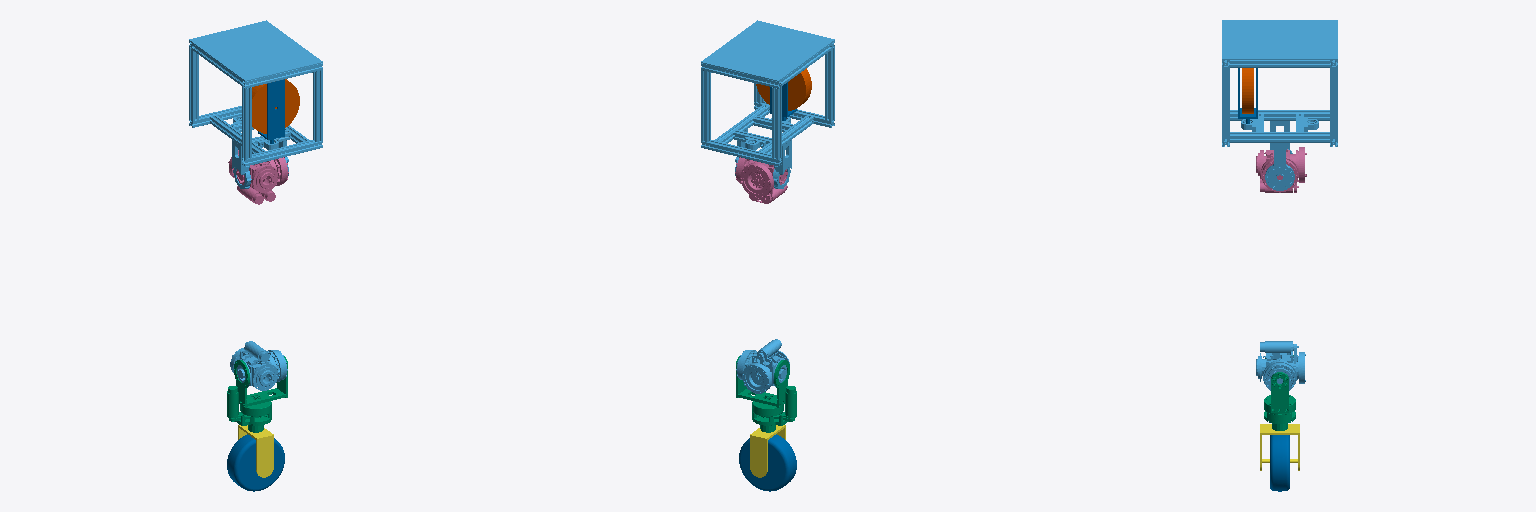
--- Render facts (derived) ---
3 views of the same robot in one strip: view 1: azimuth 30°, elevation 25°; view 2: azimuth 150°, elevation 25°; view 3: azimuth 270°, elevation 25° (orthographic).
Robot: wheeled_inverted_pendulum — 13 links, 12 joints (4 revolute, 3 continuous, 5 fixed); root link cmg; default pose: every joint at zero.
Links seen in each view (by area): view 1: frame, ankle_roll_yaw_link, wheel_link, ankle_pitch_roll_link, hip_link, Right_flywheel, Right_gimbal, ankle_to_wheel_link; view 2: frame, ankle_roll_yaw_link, wheel_link, ankle_pitch_roll_link, hip_link, ankle_to_wheel_link, Right_flywheel; view 3: frame, ankle_pitch_roll_link, ankle_roll_yaw_link, hip_link, wheel_link, Right_flywheel, ankle_to_wheel_link.
Boxes of the visible links, x1=… form: frame: x1=189, y1=20, x2=322, y2=188; ankle_roll_yaw_link: x1=227, y1=356, x2=287, y2=432; wheel_link: x1=227, y1=434, x2=284, y2=491; ankle_pitch_roll_link: x1=230, y1=341, x2=287, y2=390; hip_link: x1=228, y1=150, x2=288, y2=204; Right_flywheel: x1=252, y1=79, x2=299, y2=133; Right_gimbal: x1=258, y1=79, x2=284, y2=143; ankle_to_wheel_link: x1=238, y1=425, x2=273, y2=477; frame: x1=701, y1=20, x2=834, y2=188; ankle_roll_yaw_link: x1=736, y1=356, x2=796, y2=432; wheel_link: x1=739, y1=434, x2=796, y2=491; ankle_pitch_roll_link: x1=736, y1=339, x2=789, y2=393; hip_link: x1=735, y1=157, x2=787, y2=203; ankle_to_wheel_link: x1=750, y1=425, x2=785, y2=477; Right_flywheel: x1=756, y1=68, x2=811, y2=110; frame: x1=1222, y1=20, x2=1337, y2=190; ankle_pitch_roll_link: x1=1256, y1=341, x2=1305, y2=390; ankle_roll_yaw_link: x1=1264, y1=355, x2=1295, y2=430; hip_link: x1=1256, y1=147, x2=1306, y2=192; wheel_link: x1=1270, y1=435, x2=1289, y2=491; Right_flywheel: x1=1242, y1=68, x2=1253, y2=113; ankle_to_wheel_link: x1=1260, y1=424, x2=1299, y2=470.
Size in the robot's own frame: 0.23 by 0.29 by 1.24 metres.
8 mesh visuals loaded from 12 distinct referenced files (8 binary STL); not drawn: 4 (reference not matched to a file when rendering).

The robot description file, URDF, robot "wheeled_inverted_pendulum":
<?xml version="1.0"?>

<robot name="wheeled_inverted_pendulum">

        <link name="cmg">		    
		</link>

        <joint name="cmg_joint" type="fixed">
		    <origin xyz="0 0 1.114642" rpy="0.0 0.0 0.0" /> 
		    <parent link="cmg"/>
		    <child link="frame"/>
		</joint> 

        <link name="frame">
            <visual>
                <origin xyz="0 0 0" rpy="1.5708 0.0 0"/> <!--xyz="0.0 0.0 0.0" rpy="0 0.0 0" -->
                <geometry>
                    <mesh filename="package://cmg_robot_description/meshes/cmg_link.STL" scale="0.001 0.001 0.001"/>         
                </geometry>
                <material name=""/>
            </visual>

            <collision>
                <origin xyz="0 0 0" rpy="1.5708 0.0 0.0"/>
                <geometry>
                    <mesh filename="package://cmg_robot_description/meshes/cmg_link.STL" scale="0.001 0.001 0.001"/>
                </geometry>
            </collision>

            <inertial>
                <mass value="2.84" /> <!--20.781-->
                <origin xyz="0 0 -0.004142" rpy="1.5708 0.0 0"/>
                <inertia ixx="0.069831822" ixy="0.000002709"  ixz="0.001167158"  iyy="0.062838135"  iyz="0.000012214"  izz="0.037865996" />
            </inertial>
        </link>

<!-- ######################################################################################### -->

        <joint name="Left_gimbal_joint" type="revolute">
            <!-- <origin xyz="-0.000001 0.08 -0.0015" rpy="0 0 1.57"/> -->
            <origin xyz="0 0.08 0.00225" rpy="0 0 0"/>
            <axis xyz="0 0 1" />
            <parent link="frame"/>
            <child link="Left_gimbal"/>            
            <limit effort="100" velocity="100" upper="0.6978" lower="-0.6978"/>
            <!-- <calibration falling="1.0"/> -->
            <joint_properties damping="0.0" friction="0.0"/>
            <mimic joint="Right_gimbal_joint" multiplier="-1.0"/>

        </joint>

<!-- ######################################################################################### -->

        <link name="Left_gimbal">
            <visual>
                <origin xyz="0.0 0.0 0.0" rpy="1.57 0.0 0"/> 
                <geometry>
                    <mesh filename="package://cmg_robot_description/meshes/left_gimbal_link.STL" scale="0.001 0.001 0.001"/>         
                </geometry>
                <material name=""/>
            </visual>
            <collision>
                <origin xyz="0 0 0" rpy="1.57 0.0 0.0"/>
                <geometry>
                    <mesh filename="package://cmg_robot_description/meshes/left_gimbal_link.STL" scale="0.001 0.001 0.001"/>        
                </geometry>
            </collision>
            <inertial>
                <mass value="1" />
                <origin xyz="0 0 0" />
                <inertia ixx="0.003773117" ixy="0" ixz="0" iyy="0.003989672" iyz="0" izz="0.00061837"/>
            </inertial>
        </link>

<!-- ######################################################################################### -->

         <joint name="Left_flywheel_joint" type="continuous">
            <origin xyz="0 0 0" rpy="0 0 0"/>
            <axis xyz="0 1 0" />
            <parent link="Left_gimbal"/>
            <child link="Left_flywheel"/>
            <limit effort="100" velocity="1000"/>
            <joint_properties damping="0.0" friction="0.0"/>
            <mimic joint="Right_gimbal_joint" multiplier="-1.0"/>
        </joint>

<!-- ######################################################################################### -->

        <link name="Left_flywheel">
            <visual>
                <origin xyz="0 0 0" rpy="0 0 0" />
                <geometry>
                    <mesh filename="package://cmg_robot_description/meshes/left_flywheel_link.STL" scale="0.001 0.001 0.001" />
                </geometry>
                <material name=""/>
            </visual>

            <collision>
                <geometry>
                    <mesh filename="package://cmg_robot_description/meshes/left_flywheel_link.STL" scale="0.001 0.001 0.001" />
                </geometry>
            </collision>

            <inertial>
                <mass value="4" />
                <origin xyz="0 0 0" />
                <inertia ixx="0.005950" ixy="0" ixz="0" iyy="0.011299999" iyz="0" izz="0.005950"/>
            </inertial>
        </link>

<!-- ######################################################################################### -->

        <joint name="Right_gimbal_joint" type="revolute">            
            <origin xyz="0 -0.08 0.00225" rpy="0 0 0"/>
            <axis xyz="0 0 1" />
            <parent link="frame"/>
            <child link="Right_gimbal"/>            
            <limit effort="100" velocity="100" upper="0.6978" lower="-0.6978"/>
            <joint_properties damping="0.0" friction="0"/>
        </joint>

<!-- ######################################################################################### -->

        <link name="Right_gimbal">
            <visual>
                <origin xyz="0.0 0.0 0.0" rpy="1.57 0.0 0"/> 
                <geometry>
                    <mesh filename="package://cmg_robot_description/meshes/right_gimbal_link.STL" scale="0.001 0.001 0.001"/>         
                </geometry>
                <material name=""/>
            </visual>
            <collision>
                <origin xyz="0 0 0" rpy="1.57 0.0 0.0"/>
                <geometry>
                    <mesh filename="package://cmg_robot_description/meshes/right_gimbal_link.STL" scale="0.001 0.001 0.001"/>        
                </geometry>
            </collision>
            <inertial>
                <mass value="1" />
                <origin xyz="0 0 0" />
                <inertia ixx="0.003773117" ixy="0" ixz="0" iyy="0.003989672" iyz="0" izz="0.00061837"/>
            </inertial>
        </link>

<!-- ######################################################################################### -->

        <joint name="Right_flywheel_joint" type="continuous">
            <origin xyz="0 0 0" rpy="0 0 0"/>
            <axis xyz="0 1 0" />
            <parent link="Right_gimbal"/>
            <child link="Right_flywheel"/>
            <limit effort="100" velocity="1000"/>
            <joint_properties damping="0.0" friction="0.0"/>
        </joint>

<!-- ######################################################################################### -->

        <link name="Right_flywheel">
            <visual>
                <origin xyz="0 0 0" rpy="0 0 0" />
                <geometry>
                    <mesh filename="package://cmg_robot_description/meshes/right_flywheel_link.STL" scale="0.001 0.001 0.001" />
                </geometry>
                <material name=""/>
            </visual>

            <collision>
                <geometry>
                    <mesh filename="package://cmg_robot_description/meshes/right_flywheel_link.STL" scale="0.001 0.001 0.001" />
                </geometry>
            </collision>

            <inertial>
                <mass value="4" />
                <origin xyz="0 0 0" />
                <inertia ixx="0.005950" ixy="0" ixz="0" iyy="0.011299999" iyz="0" izz="0.005950"/>
            </inertial>
        </link>
        
<!-- ######################################################################################### -->
<!-- -0.220996 -->
        <joint name="hip_roll_joint" type="revolute">
            <origin xyz="0 0 -0.220996" rpy="0 0 0"/>
            <parent link="frame"/>
            <child link="hip_link"/>
            <axis xyz="1 0 0"/>
            <limit effort="100" velocity="1000" upper="0.785" lower="-0.785"/>
            <joint_properties damping="1.0" friction="1.0"/>
        </joint>

        <link name="hip_link">
            <visual>
                <origin xyz="-0.042455 0 0" rpy="3.14 0 0"/> 
                <geometry>
                    <mesh filename="package://cmg_robot_description/meshes/hip_link.STL" scale="0.001 0.001 0.001"/>         
                </geometry>
                <material name=""/>
            </visual>

            <collision>
                <origin xyz="-0.042455 0 0" rpy="3.14 0 0"/>
                <geometry>
                    <!-- <box size = "  0.127 0.168778 0.958442 "/>                     -->
                    <mesh filename="package://cmg_robot_description/meshes/hip_link.STL" scale="0.001 0.001 0.001"/>
                </geometry>
            </collision>

            <inertial>
                <mass value="3.325" /> 
                <origin xyz="0.0 0.0 0.011176" rpy="3.14 0.0 0"/>
                <inertia ixx="0.006208194" ixy="0.000396490"  ixz="-0.000685512"  iyy="0.006554912"  iyz="-0.000658520" izz="0.006773627" />
            </inertial>
        </link>

<!-- ######################################################################################### -->

        <joint name="hip_pitch_joint" type="fixed">
		    <!-- <origin xyz="0 -0.0045 -0.451221" rpy="0.0 0.0 0.0" />  -->
		    <origin xyz="0 0 0" rpy="0.0 0.0 0.0" /> 
            <!-- <axis xyz="0 1 0"/> -->
		    <parent link="hip_link"/>
		    <child link="hip_to_knee_link" />
            <!-- <limit effort="100" velocity="1000" upper="0.785" lower="-0.785"/>
            <joint_properties damping="1.0" friction="1.0"/> -->
		</joint> 

        <link name="hip_to_knee_link">
            <visual>
                <origin xyz="0.0 0.0665 0" rpy="3.14 0 0"/> 
                <geometry>
                    <mesh filename="package://cmg_robot_description/meshes/hip_to_knee_link.STL" scale="0.001 0.001 0.001"/>         
                </geometry>
                <material name=""/>
                    
            </visual>

            <collision>
                <origin xyz="0 0.0665 0.0" rpy="3.14 0 0"/>
                <geometry>
                    <!-- <box size = "  0.127 0.168778 0.958442 "/>                     -->
                    <mesh filename="package://cmg_robot_description/meshes/hip_to_knee_link.STL" scale="0.001 0.001 0.001"/>
                </geometry>
            </collision>

            <inertial>
                <mass value="2.175" /> 
                <origin xyz="0.0 0 -0.14958" rpy="3.14 0.0 0"/>
                <inertia ixx="0.007175717" ixy="0.000086944"  ixz="0.000249192"  iyy="0.006609551"  iyz="-0.000206119" izz="0.002458394" />
            </inertial>
        </link> 
<!-- ######################################################################################### -->

        <joint name="knee_joint" type="fixed">
		    <origin xyz="0 0 -0.28" rpy="0.0 0.0 0.0" /> 
            <!-- <axis xyz="0 1 0"/> -->
		    <parent link="hip_to_knee_link"/>
		    <child link="knee_ankle_link" />
            <!-- <limit effort="100" velocity="1000" upper="0.785" lower="-0.785"/>
            <joint_properties damping="1.0" friction="1.0"/> -->
		</joint> 

        <link name="knee_ankle_link">
            <visual>
                <origin xyz="0.000045 -0.059 0" rpy="3.14 0 0"/> 
                <geometry>
                    <mesh filename="package://cmg_robot_description/meshes/knee_to_ankle_pitch_link.STL" scale="0.001 0.001 0.001"/>         
                </geometry>
                <material name=""/>
                    
            </visual>

            <collision>
                <origin xyz="0.000045 -0.059 0" rpy="3.14 0 0"/>
                <geometry>
                    <!-- <box size = "  0.127 0.168778 0.958442 "/>                     -->
                    <mesh filename="package://cmg_robot_description/meshes/knee_to_ankle_pitch_link.STL" scale="0.001 0.001 0.001"/>
                </geometry>
            </collision>

            <inertial>
                <mass value="1.231" /> 
                <origin xyz="0.0 0 -0.12016" rpy="3.14 0.0 0"/>
                <inertia ixx="0.008859306" ixy="0.000111937"  ixz="0.000678647"  iyy="0.008343955"  iyz="-0.000413906" izz="0.002077894" />
            </inertial>
        </link> 
<!-- ######################################################################################### -->

        <joint name="ankle_pitch_joint" type="fixed">
		    <origin xyz="0 0 -0.279942" rpy="0.0 0.0 0.0" /> 
            <!-- <axis xyz="0 1 0"/> -->
		    <parent link="knee_ankle_link"/>
		    <child link="ankle_pitch_roll_link" />
            <!-- <limit effort="100" velocity="1000" upper="0.785" lower="-0.785"/>
            <joint_properties damping="1.0" friction="1.0"/> -->
		</joint> 

        <link name="ankle_pitch_roll_link">
            <visual>
                <origin xyz="0.0 0.0 0.0" rpy="3.14 0 0"/> 
                <geometry>
                    <mesh filename="package://cmg_robot_description/meshes/ankle_roll_link.STL" scale="0.001 0.001 0.001"/>         
                </geometry>
                <material name=""/>
                    
            </visual>

            <collision>
                <origin xyz="0 0 0" rpy="3.14 0 0"/>
                <geometry>
                    <!-- <box size = "  0.127 0.168778 0.958442 "/>                     -->
                    <mesh filename="package://cmg_robot_description/meshes/ankle_roll_link.STL" scale="0.001 0.001 0.001"/>
                </geometry>
            </collision>

            <inertial>
                <mass value="2.386" /> 
                <origin xyz="0.0 0.0 -0.0068274" rpy="3.14 0.0 0"/>
                <inertia ixx="0.003950987" ixy="0.000238179"  ixz="0.000315902"  iyy="0.004226334"  iyz="0.000351372" izz="0.004633548" />
            </inertial>
        </link> 

        
<!-- ######################################################################################### -->

        <joint name="ankle_roll_joint" type="revolute">
		    <!-- <origin xyz="0 -0.0045 -0.451221" rpy="0.0 0.0 0.0" />  -->
		    <origin xyz="0 0 0" rpy="0.0 0.0 0.0" /> 
            <axis xyz="1 0 0"/>
		    <parent link="ankle_pitch_roll_link"/>
		    <child link="ankle_roll_yaw_link" />
            <limit effort="100" velocity="1000" upper="0.785" lower="-0.785"/>
            <joint_properties damping="1.0" friction="1.0"/>
		</joint> 

        <link name="ankle_roll_yaw_link">
            <visual>
                <origin xyz="0.0825 0.0 0.0" rpy="3.14 0 0"/> 
                <geometry>
                    <mesh filename="package://cmg_robot_description/meshes/ankle_yaw_link.STL" scale="0.001 0.001 0.001"/>         
                </geometry>
                <material name=""/>
            </visual>

            <collision>
                <origin xyz="0.0825 0 0" rpy="3.14 0 0"/>
                <geometry>
                    <!-- <box size = "  0.127 0.168778 0.958442 "/>                     -->
                    <mesh filename="package://cmg_robot_description/meshes/ankle_yaw_link.STL" scale="0.001 0.001 0.001"/>
                </geometry>
            </collision>

            <inertial>
                <mass value="1.325" /> 
                <origin xyz="0.0 0.0 -0.093558" rpy="1.57 0 1.57"/>
                <inertia ixx="0.004491154" ixy="0.000005564"  ixz="0.000003285"  iyy="0.002633972"  iyz="0.000397982" izz="0.002356447" />
            </inertial>
        </link> 

<!-- ######################################################################################### -->

        <joint name="ankle_yaw_joint" type="fixed">
		    <!-- <origin xyz="0 -0.0045 -0.451221" rpy="0.0 0.0 0.0" />  -->
		    <origin xyz="0 0 -0.1675" rpy="0.0 0.0 0.0" /> 
            <!-- <axis xyz="0 0 1"/> -->
		    <parent link="ankle_roll_yaw_link"/>
		    <child link="ankle_to_wheel_link" />
            <!-- <limit effort="100" velocity="1000" upper="0.785" lower="-0.785"/> -->
            <!-- <joint_properties damping="1.0" friction="1.0"/> -->
		</joint> 

        <link name="ankle_to_wheel_link">
            <visual>
                <origin xyz="0.0 0.0 -0.09" rpy="0 0 0"/> 
                <geometry>
                    <mesh filename="package://cmg_robot_description/meshes/ankle_to_wheel_link.STL" scale="0.001 0.001 0.001"/>         
                </geometry>
                <material name=""/>
            </visual>

            <collision>
                <origin xyz="0 0 -0.09" rpy="0 0 0"/>
                <geometry>
                    <!-- <box size = "  0.127 0.168778 0.958442 "/>                     -->
                    <mesh filename="package://cmg_robot_description/meshes/ankle_to_wheel_link.STL" scale="0.001 0.001 0.001"/>
                </geometry>
            </collision>

            <inertial>
                <mass value="0.758" /> 
                <origin xyz="0 0 0" rpy="0.0 0.0 0"/>
                <inertia ixx="0.002298182" ixy="0.0"  ixz="0.0"  iyy="0.001121639"  iyz="-0.0" izz="0.001482959" />
            </inertial>
        </link>

<!-- ######################################################################################### -->

        <joint name="wheel_joint" type="continuous">
		    <!-- <origin xyz="0 -0.0045 -0.451221" rpy="0.0 0.0 0.0" />  -->
		    <origin xyz="0 0 -0.09" rpy="0.0 0.0 0.0" /> 
            <axis xyz="0 1 0"/>
		    <parent link="ankle_to_wheel_link"/>
		    <child link="wheel_link" />
            <limit effort="100" velocity="1000"/>
            <joint_properties damping="1.0" friction="1.0"/>
		</joint>

         <link name="wheel_link">
            <visual>
                <origin xyz="0.0 0.0 0.0" rpy="0 0.0 1.57"/> 
                <geometry>
                    <mesh filename="package://cmg_robot_description/meshes/wheel_link.STL" scale="0.001 0.001 0.001"/>         
                </geometry>
                <material name=""/>
            </visual>

            <collision>                
                <origin xyz="0 0 0" rpy="0 0.0 1.57"/>
                <geometry>
                    <mesh filename="package://cmg_robot_description/meshes/wheel_link.STL" scale="0.001 0.001 0.001"/>                 
                </geometry>
            </collision>

            <inertial>
                <mass value="2.0" />
                <origin xyz="0 0 0" />
                <inertia ixx="0.003623375" ixy="0.0" ixz="0.0" iyy="0.006512625" iyz="0.0" izz="0.003623375"/>
            </inertial>
        </link> 

<!-- ######################################################################################### -->

        <gazebo reference="frame">
            <mu1>1.0</mu1>
            <mu2>1.0</mu2> 
            <kp>1e+13</kp>
            <kd>1.0</kd>
            <maxVel>0.001</maxVel>
            <minDepth>0.00000000001</minDepth>
            <gravity>1</gravity>
            <material>Gazebo/Grey</material>
            <!-- <selfCollide>true</selfCollide> -->
        </gazebo>

        <gazebo reference="Left_gimbal">
            <mu1>1.0</mu1>
            <mu2>1.0</mu2> 
            <kp>1e+13</kp>
            <kd>1.0</kd>
            <maxVel>0.001</maxVel>
            <minDepth>0.00000000001</minDepth>
            <gravity>1</gravity>
            <material>Gazebo/Grey</material>
            <selfCollide>true</selfCollide>
        </gazebo>

        <gazebo reference="Left_flywheel">
            <mu1>1.0</mu1>
            <mu2>1.0</mu2> 
            <kp>1e+13</kp>
            <kd>1.0</kd>
            <maxVel>0.001</maxVel>
            <minDepth>0.00000000001</minDepth>
            <gravity>1</gravity>
            <material>Gazebo/White</material>
        </gazebo>


        <gazebo reference="Right_gimbal">
            <mu1>1.0</mu1>
            <mu2>1.0</mu2> 
            <kp>1e+13</kp>
            <kd>1.0</kd>
            <maxVel>0.001</maxVel>
            <minDepth>0.00000000001</minDepth>
            <gravity>1</gravity>
            <material>Gazebo/Grey</material>
            <selfCollide>true</selfCollide>
        </gazebo>

        <gazebo reference="Right_flywheel">
            <mu1>1.0</mu1>
            <mu2>1.0</mu2> 
            <kp>1e+13</kp>
            <kd>1.0</kd>
            <maxVel>0.001</maxVel>
            <minDepth>0.00000000001</minDepth>
            <gravity>1</gravity>
            <material>Gazebo/White</material>
        </gazebo>


<!-- ######################################################################################### -->

        <gazebo reference="hip_link">
            <mu1>1.0</mu1>
            <mu2>1.0</mu2> 
            <kp>1e+13</kp>
            <kd>1.0</kd>
            <maxVel>0.001</maxVel>
            <minDepth>0.00000000001</minDepth>
            <gravity>1</gravity>
            <material>Gazebo/Grey</material>
        </gazebo>

        <gazebo reference="hip_to_knee_link">
            <mu1>1.0</mu1>
            <mu2>1.0</mu2> 
            <kp>1e+13</kp>
            <kd>1.0</kd>
            <maxVel>0.001</maxVel>
            <minDepth>0.00000000001</minDepth>
            <gravity>1</gravity>
            <material>Gazebo/Grey</material>
        </gazebo>

        <gazebo reference="knee_ankle_link">
            <mu1>1.0</mu1>
            <mu2>1.0</mu2> 
            <kp>1e+13</kp>
            <kd>1.0</kd>
            <maxVel>0.001</maxVel>
            <minDepth>0.00000000001</minDepth>
            <gravity>1</gravity>
            <material>Gazebo/Grey</material>
        </gazebo>

        <gazebo reference="ankle_pitch_roll_link">
            <mu1>1.0</mu1>
            <mu2>1.0</mu2> 
            <kp>1e+13</kp>
            <kd>1.0</kd>
            <maxVel>0.001</maxVel>
            <minDepth>0.00000000001</minDepth>
            <gravity>1</gravity>
            <material>Gazebo/Grey</material>
        </gazebo>

        <gazebo reference="ankle_roll_yaw_link">
            <mu1>1.0</mu1>
            <mu2>1.0</mu2> 
            <kp>1e+13</kp>
            <kd>1.0</kd>
            <maxVel>0.001</maxVel>
            <minDepth>0.00000000001</minDepth>
            <gravity>1</gravity>
            <material>Gazebo/Grey</material>
        </gazebo>

        <gazebo reference="ankle_to_wheel_link">
            <mu1>1.0</mu1>
            <mu2>1.0</mu2> 
            <kp>1e+13</kp>
            <kd>1.0</kd>
            <maxVel>0.001</maxVel>
            <minDepth>0.00000000001</minDepth>
            <gravity>1</gravity>
            <material>Gazebo/Grey</material>
        </gazebo>

        <gazebo reference="wheel_link">
            <collision name="wheel_collision">
                <surface>
                    <friction>
                        <torsional>
                            <coefficient>1</coefficient>
                            <use_patch_radius>true</use_patch_radius>
                            <patch_radius>0.02</patch_radius>
                        </torsional>
                    </friction>
                </surface>
            </collision>
            <mu1>1.0</mu1>
            <mu2>1.0</mu2> 
            <kp>1e+13</kp>
            <kd>1.0</kd>
            <maxVel>0.001</maxVel>
            <minDepth>0.00000000001</minDepth>
            <gravity>1</gravity>
            <material>Gazebo/White</material>
        </gazebo>


<!-- ######################################################################################### -->

        <gazebo>
            <plugin name="gazebo_ros_control" filename="libgazebo_ros_control.so">
                <controlPeriod>0.001</controlPeriod>
                <robotNamespace>/wheeled_inverted_pendulum</robotNamespace>
                <!-- <jointName> Right_gimbal_joint, Left_gimbal_joint, Left_flywheel_joint, Right_flywheel_joint, hip_roll_joint, hip_pitch_joint, knee_joint, ankle_pitch_joint, ankle_roll_joint, wheel_joint </jointName> -->
                <robotSimType>gazebo_ros_control/DefaultRobotHWSim</robotSimType>
                <legacyModeNS>true</legacyModeNS>
            </plugin>
        </gazebo>

        <gazebo>
            <plugin name="mimic_control" filename="libroboticsgroup_upatras_gazebo_mimic_joint_plugin.so">
                <joint>Right_gimbal_joint</joint>
                <mimicJoint>Left_gimbal_joint</mimicJoint>
                <multiplier>-1.0</multiplier>
                <!-- <hasPID>/gazebo_ros_control/pid_gains/Left_gimbal_joint</hasPID> -->
                <!-- /gazebo_ros_control/pid_gains/Left_gimbal_joint -->
            </plugin>
        </gazebo>

        <transmission name="Left_flywheel_trans">
            <type>transmission_interface/SimpleTransmission</type>
            <joint name="Left_flywheel_joint" >
                <hardwareInterface>hardware_interface/VelocityJointInterface</hardwareInterface>
            </joint>
            <actuator name="Left_flywheel_motor">
                <hardwareInterface>hardware_interface/VelocityJointInterface</hardwareInterface>
                <mechanicalReduction>1</mechanicalReduction>
            </actuator>
        </transmission>

        <!-- <transmission name="Left_gimbal_trans">
            <type>transmission_interface/SimpleTransmission</type>
            <joint name="Left_gimbal_joint" >
                <hardwareInterface>hardware_interface/EffortJointInterface</hardwareInterface>
            </joint>
            <actuator name="Left_gimbal_motor">
                <hardwareInterface>hardware_interface/EffortJointInterface</hardwareInterface>
                <mechanicalReduction>1</mechanicalReduction>
            </actuator>
        </transmission> -->


        <transmission name="Right_flywheel_trans">
            <type>transmission_interface/SimpleTransmission</type>
            <joint name="Right_flywheel_joint" >
                <hardwareInterface>hardware_interface/VelocityJointInterface</hardwareInterface>
            </joint>
            <actuator name="Right_flywheel_motor">
                <hardwareInterface>hardware_interface/VelocityJointInterface</hardwareInterface>
                <mechanicalReduction>1</mechanicalReduction>
            </actuator>
        </transmission>

        <transmission name="Right_gimbal_trans">
            <type>transmission_interface/SimpleTransmission</type>
            <joint name="Right_gimbal_joint" >
                <hardwareInterface>hardware_interface/EffortJointInterface</hardwareInterface>
            </joint>
            <actuator name="Right_gimbal_motor">
                <hardwareInterface>hardware_interface/EffortJointInterface</hardwareInterface>
                <mechanicalReduction>1</mechanicalReduction>
            </actuator>
        </transmission>

<!-- ######################################################################################### -->

        <transmission name="hip_roll_trans">
            <type>transmission_interface/SimpleTransmission</type>
            <joint name="hip_roll_joint" >
                <hardwareInterface>hardware_interface/PositionJointInterface</hardwareInterface>
            </joint>
            <actuator name="hip_roll_motor">
                <hardwareInterface>hardware_interface/PositionJointInterface</hardwareInterface>
                <mechanicalReduction>1</mechanicalReduction>
            </actuator>
        </transmission>

        <!-- <transmission name="hip_pitch_trans">
            <type>transmission_interface/SimpleTransmission</type>
            <joint name="hip_pitch_joint" >
                <hardwareInterface>hardware_interface/PositionJointInterface</hardwareInterface>
            </joint>
            <actuator name="hip_pitch_motor">
                <hardwareInterface>hardware_interface/PositionJointInterface</hardwareInterface>
                <mechanicalReduction>1</mechanicalReduction>
            </actuator>
        </transmission>


        <transmission name="knee_trans">
            <type>transmission_interface/SimpleTransmission</type>
            <joint name="knee_joint" >
                <hardwareInterface>hardware_interface/PositionJointInterface</hardwareInterface>
            </joint>
            <actuator name="knee_motor">
                <hardwareInterface>hardware_interface/PositionJointInterface</hardwareInterface>
                <mechanicalReduction>1</mechanicalReduction>
            </actuator>
        </transmission>

        <transmission name="ankle_pitch_trans">
            <type>transmission_interface/SimpleTransmission</type>
            <joint name="ankle_pitch_joint" >
                <hardwareInterface>hardware_interface/PositionJointInterface</hardwareInterface>
            </joint>
            <actuator name="ankle_pitch_motor">
                <hardwareInterface>hardware_interface/PositionJointInterface</hardwareInterface>
                <mechanicalReduction>1</mechanicalReduction>
            </actuator>
        </transmission> -->

        <transmission name="ankle_roll_trans">
            <type>transmission_interface/SimpleTransmission</type>
            <joint name="ankle_roll_joint" >
                <hardwareInterface>hardware_interface/PositionJointInterface</hardwareInterface>
            </joint>
            <actuator name="ankle_roll_motor">
                <hardwareInterface>hardware_interface/PositionJointInterface</hardwareInterface>
                <mechanicalReduction>1</mechanicalReduction>
            </actuator>
        </transmission>

        <!-- <transmission name="ankle_yaw_trans">
            <type>transmission_interface/SimpleTransmission</type>
            <joint name="ankle_yaw_joint" >
                <hardwareInterface>hardware_interface/PositionJointInterface</hardwareInterface>
            </joint>
            <actuator name="ankle_yaw_motor">
                <hardwareInterface>hardware_interface/PositionJointInterface</hardwareInterface>
                <mechanicalReduction>1</mechanicalReduction>
            </actuator>
        </transmission> -->

        <transmission name="wheel_trans">
            <type>transmission_interface/SimpleTransmission</type>
            <joint name="wheel_joint" >
                <hardwareInterface>hardware_interface/EffortJointInterface</hardwareInterface>
            </joint>
            <actuator name="wheel_motor">
                <hardwareInterface>hardware_interface/EffortJointInterface</hardwareInterface>
                <mechanicalReduction>1</mechanicalReduction>
            </actuator>
        </transmission>

<!-- EffortJointInterface
PositionJointInterface
VelocityJointInterface -->

</robot>
